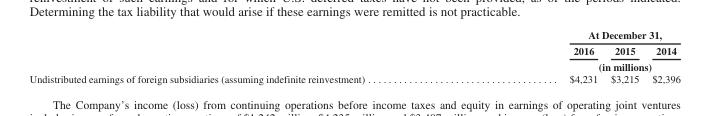table: (28, 28, 679, 84)
table column: (28, 28, 466, 84), (466, 28, 603, 84), (603, 28, 644, 84), (644, 28, 679, 84)
table column header: (28, 28, 679, 72)
table row: (28, 42, 679, 58), (28, 28, 679, 42), (28, 58, 679, 72), (28, 72, 679, 84)
table spanning cell: (466, 28, 679, 42), (466, 58, 679, 72)
